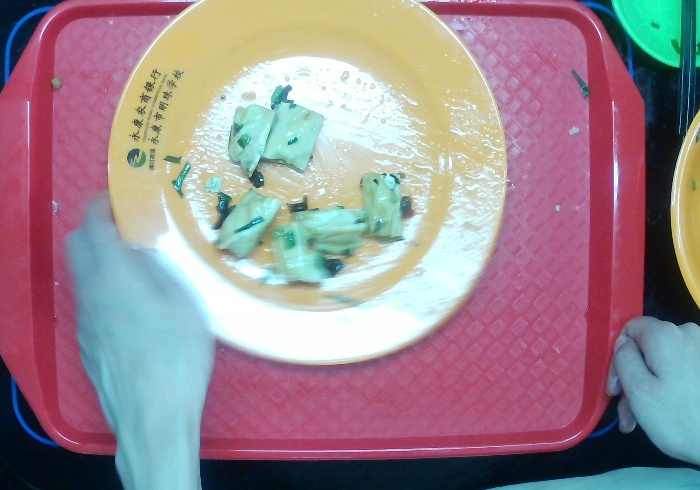YKMZ-Ju_Se_Mian_Pan: (106, 1, 509, 366)
